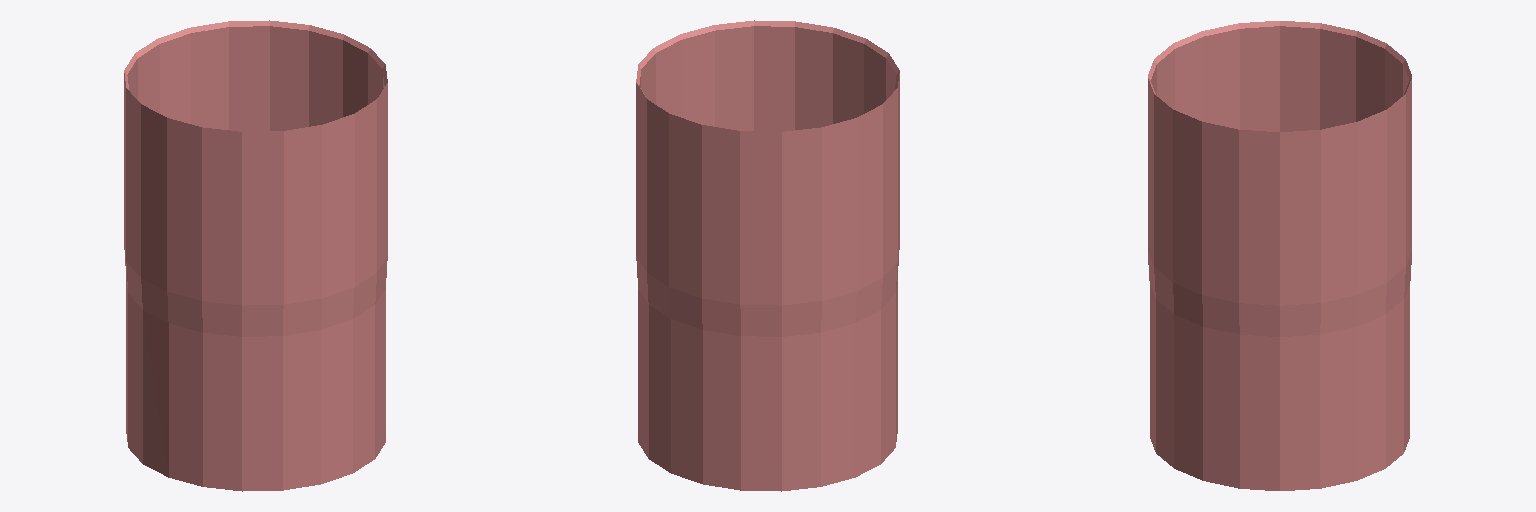
robot.urdf — model.urdf:
<?xml version="0.0" ?>
<robot name="model.urdf">
  <link name="baseLink">
    <contact>
      <friction_anchor/>
      <lateral_friction value="0.3"/>
      <rolling_friction value="0.0"/>
      <contact_cfm value="0.0"/>
      <contact_erp value="1.0"/>
    </contact>
    <inertial>
       <origin rpy="0 0 0" xyz="0 0 0"/>
       <mass value="0.1"/>
       <inertia ixx="8e-05" ixy="0" ixz="0" iyy="0.0002" iyz="0" izz="0.0002"/>
    </inertial>
    <visual>
      <geometry>
        <mesh filename="textured.dae" scale="1.2 1.2 1.2"/>
      </geometry>
      <material name="red">
        <color rgba="0.9 0.6 0.6 1."/>
      </material>
    </visual>
    <collision>
      <geometry>
    	 	<mesh filename="textured.dae" scale="1.2 1.2 1.2"/>
      </geometry>
    </collision>
  </link>
</robot>

--- Render facts (derived) ---
The picture shows the robot from 3 angles, left to right: view 1: azimuth 30°, elevation 25°; view 2: azimuth 150°, elevation 25°; view 3: azimuth 270°, elevation 25°; orthographic projection.
Robot: model.urdf — 1 links, 0 joints (none); root link baseLink; default pose: all joints at 0.
Links seen in each view (by area): view 1: baseLink; view 2: baseLink; view 3: baseLink.
Boxes of the visible links, x1,y1,x2,y2 form: baseLink: (124, 20, 387, 491); baseLink: (636, 20, 899, 491); baseLink: (1148, 21, 1411, 490).
Bounding box of the posed robot: 0.12 × 0.12 × 0.18 m (x, y, z).
1 mesh visuals loaded from 1 distinct referenced files (1 Collada DAE).